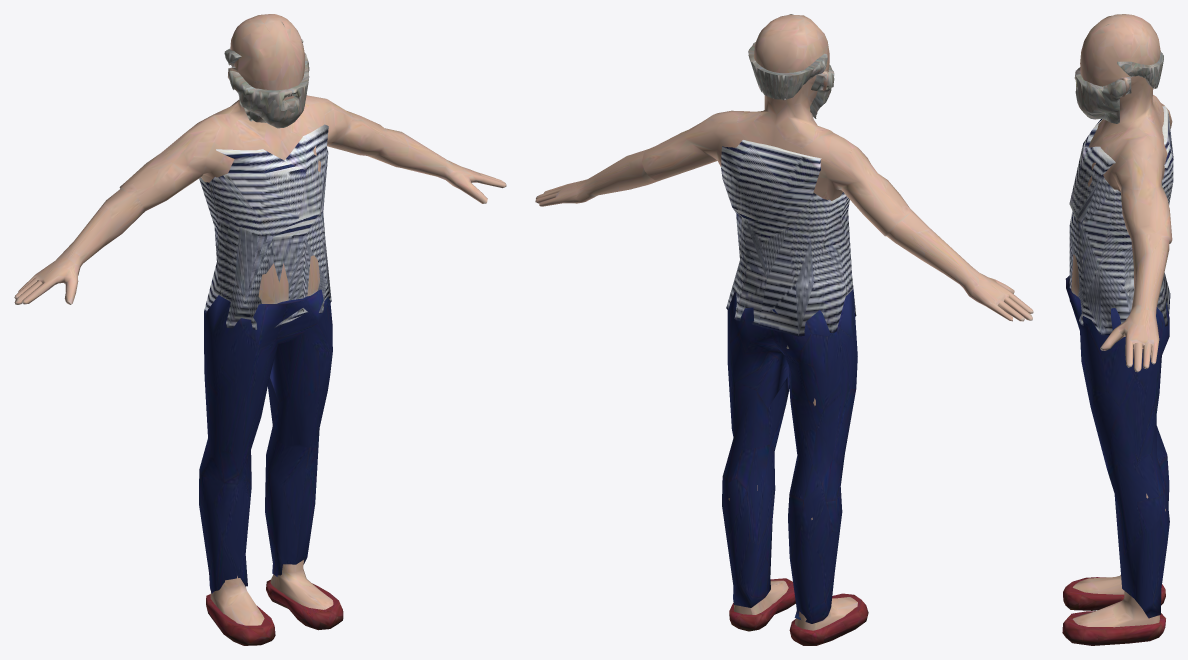
File: npc_x_grandpa2.glb
3 views of the same model, side by side, from view 1: azimuth 30°, elevation 25°; view 2: azimuth 150°, elevation 25°; view 3: azimuth 270°, elevation 25° (orthographic).
Parts seen in each view (by area): view 1: Human; view 2: Human; view 3: Human.
Boxes of the visible parts, x1=… form: Human: x1=14, y1=14, x2=506, y2=645; Human: x1=535, y1=14, x2=1033, y2=645; Human: x1=1062, y1=14, x2=1173, y2=645.
Size of the model in its own units: 1.48 by 1.74 by 0.2893.
1 material, 1 textured.
